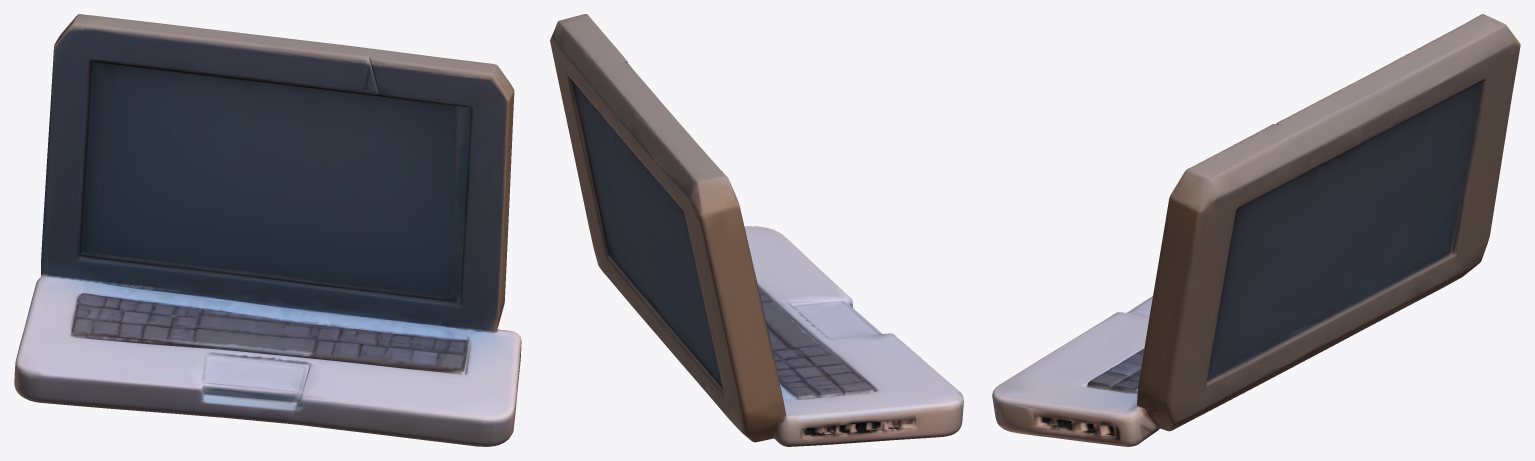
File: laptop.fbx
The picture shows the model from 3 angles, left to right: view 1: azimuth 30°, elevation 25°; view 2: azimuth 150°, elevation 25°; view 3: azimuth 270°, elevation 25°; orthographic projection. The views are drawn at different scales.
Parts seen in each view (by area): view 1: laptop; view 2: laptop; view 3: laptop.
Boxes of the visible parts, <box> form: laptop: <box>14,14,521,446</box>; laptop: <box>550,14,963,446</box>; laptop: <box>992,14,1520,446</box>.
Bounding box in the file's own units: 46.56 × 30.11 × 45.82.
Materials: 1 (1 with a texture image).
